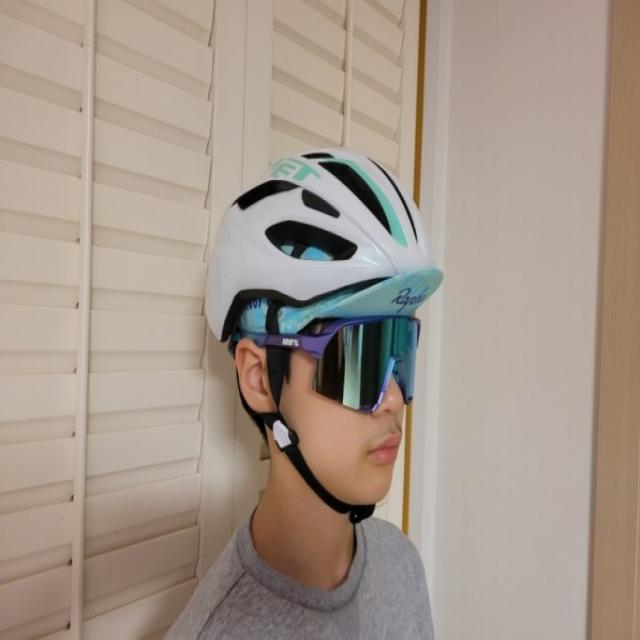Helmet: (198, 142, 447, 514)
